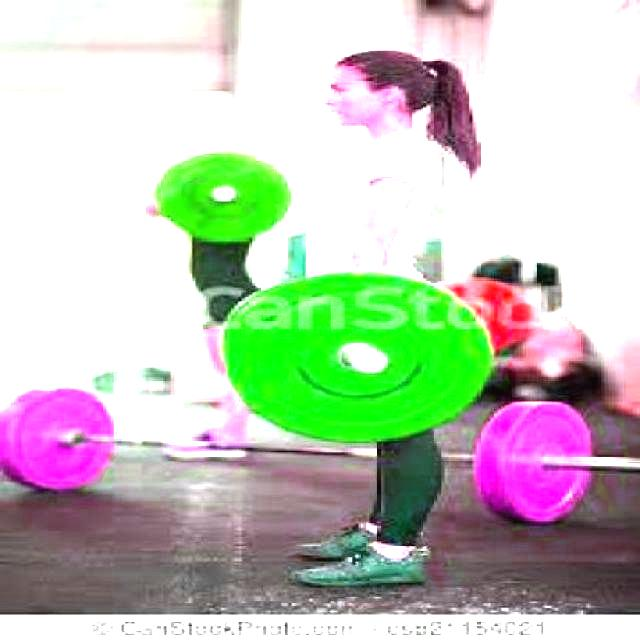barbell: (210, 266, 500, 450), (148, 136, 298, 247)
